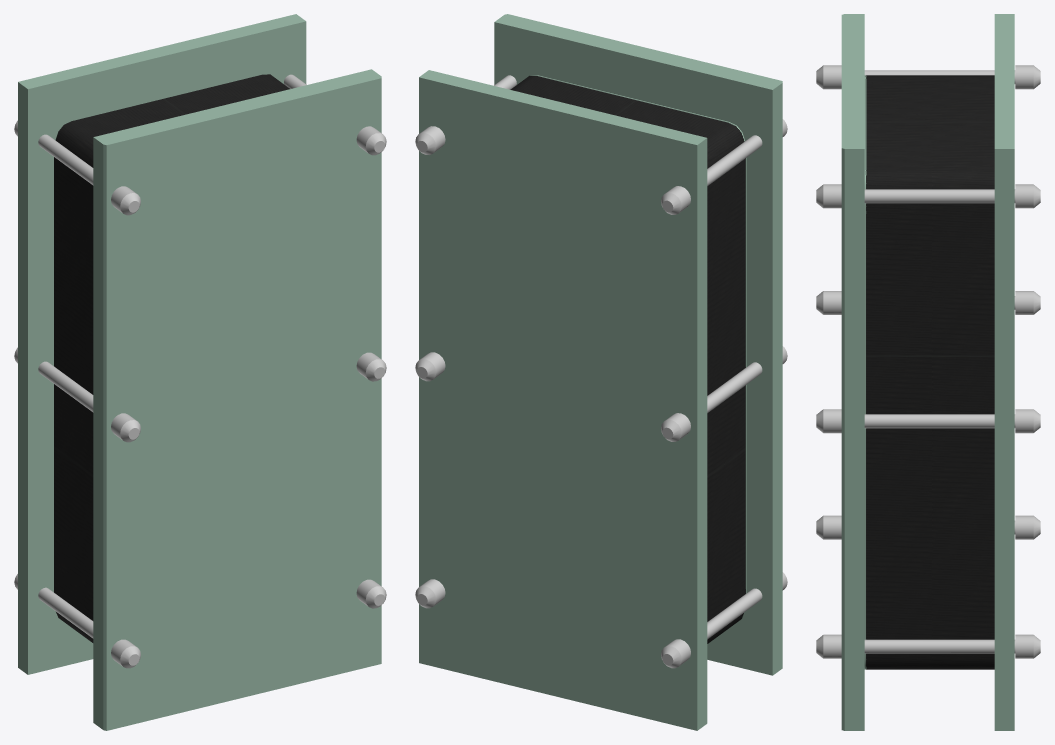
The model's file is JCW_Panel_base001.fbx.
The picture shows the model from 3 angles, left to right: view 1: azimuth 30°, elevation 25°; view 2: azimuth 150°, elevation 25°; view 3: azimuth 270°, elevation 25°; orthographic projection.
Parts seen in each view (by area): view 1: JCW_Panel_base001; view 2: JCW_Panel_base001; view 3: JCW_Panel_base001.
Part boxes in pixels (<box>): JCW_Panel_base001: <box>14,14,386,730</box>; JCW_Panel_base001: <box>415,14,787,730</box>; JCW_Panel_base001: <box>816,14,1040,730</box>.
Bounding box in the file's own units: 103 × 206 × 72.09.
